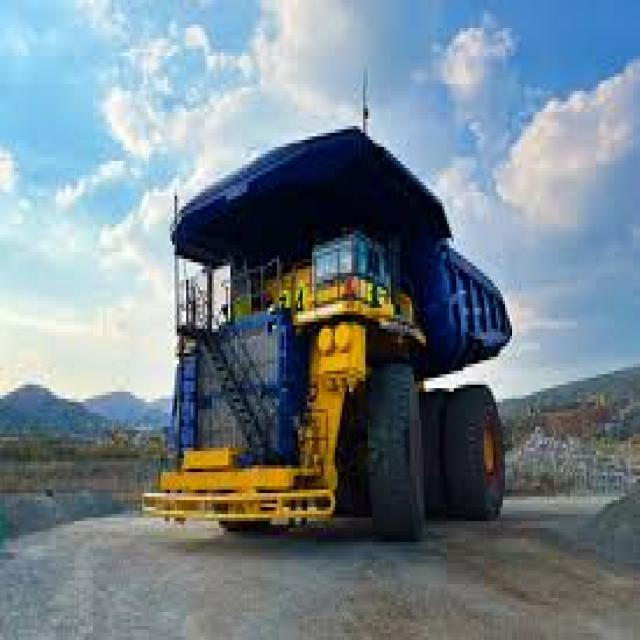dump_truck: (128, 112, 512, 538)
